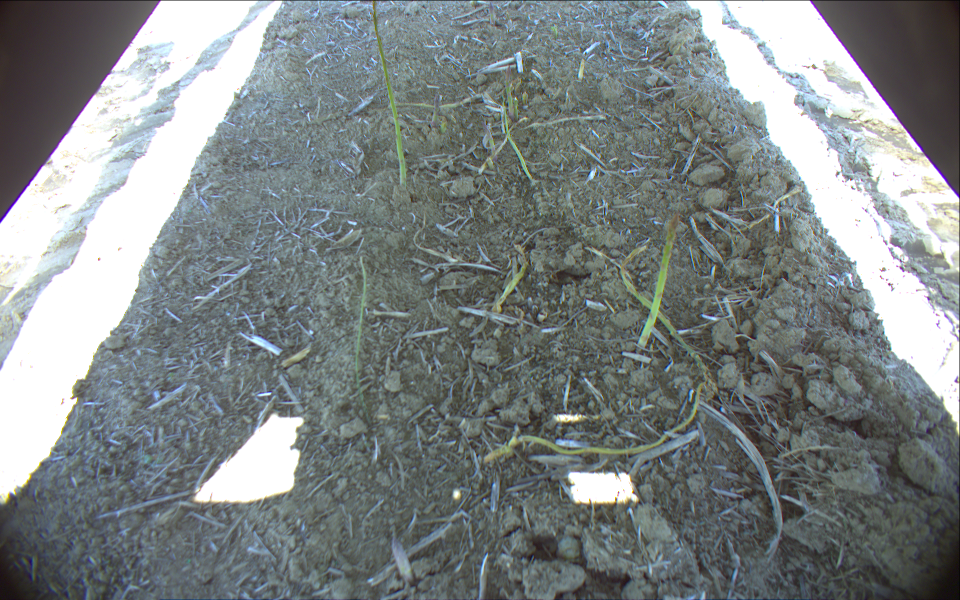aspa: (366, 1, 410, 192), (633, 212, 680, 355)
